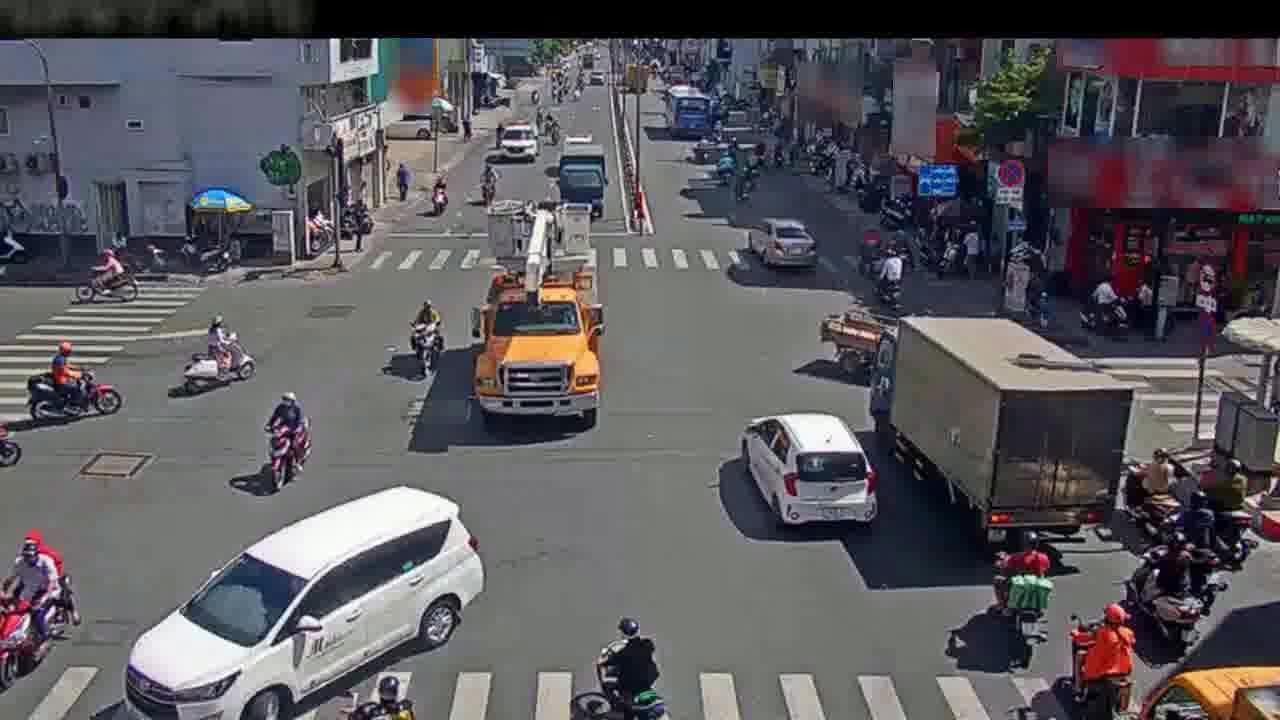14: (663, 83, 705, 143)
8: (880, 297, 1106, 570), (458, 187, 611, 424), (556, 142, 607, 212), (663, 83, 705, 143), (636, 95, 671, 151)
container: (134, 493, 478, 711), (751, 401, 860, 528), (825, 298, 899, 387), (749, 210, 817, 273), (496, 116, 536, 166)
motorbike: (0, 531, 89, 686), (1116, 529, 1213, 660), (1061, 596, 1145, 710), (23, 342, 122, 426), (997, 531, 1053, 662), (1183, 459, 1245, 570), (592, 620, 661, 713), (187, 317, 259, 392), (259, 391, 309, 494), (73, 242, 138, 309), (408, 292, 442, 382), (867, 240, 906, 311), (0, 395, 24, 475), (424, 167, 451, 225), (474, 160, 499, 212), (715, 149, 738, 198), (733, 159, 754, 207)
